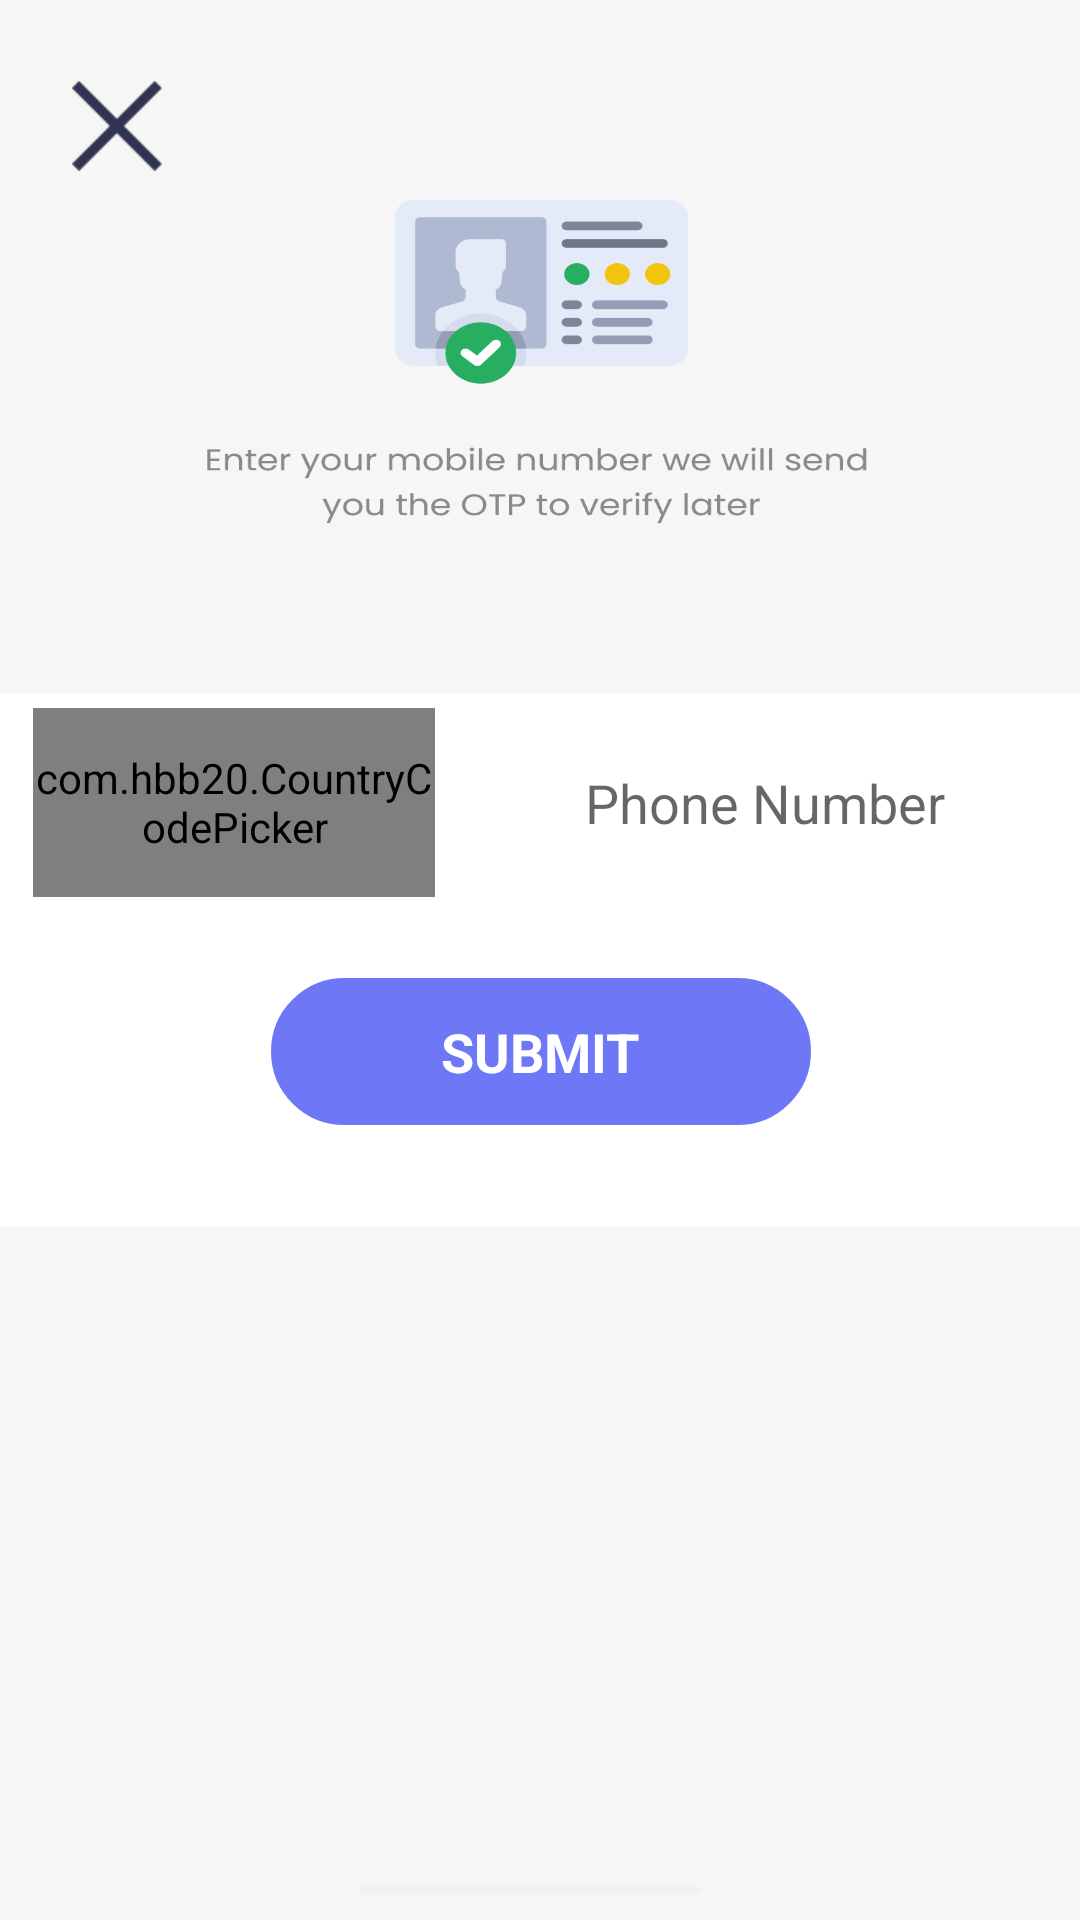

Screen size 1080x1920. Icon name, then its box in pixels as (x1, y1, x2, y2):
cross: (72, 81, 162, 171)
